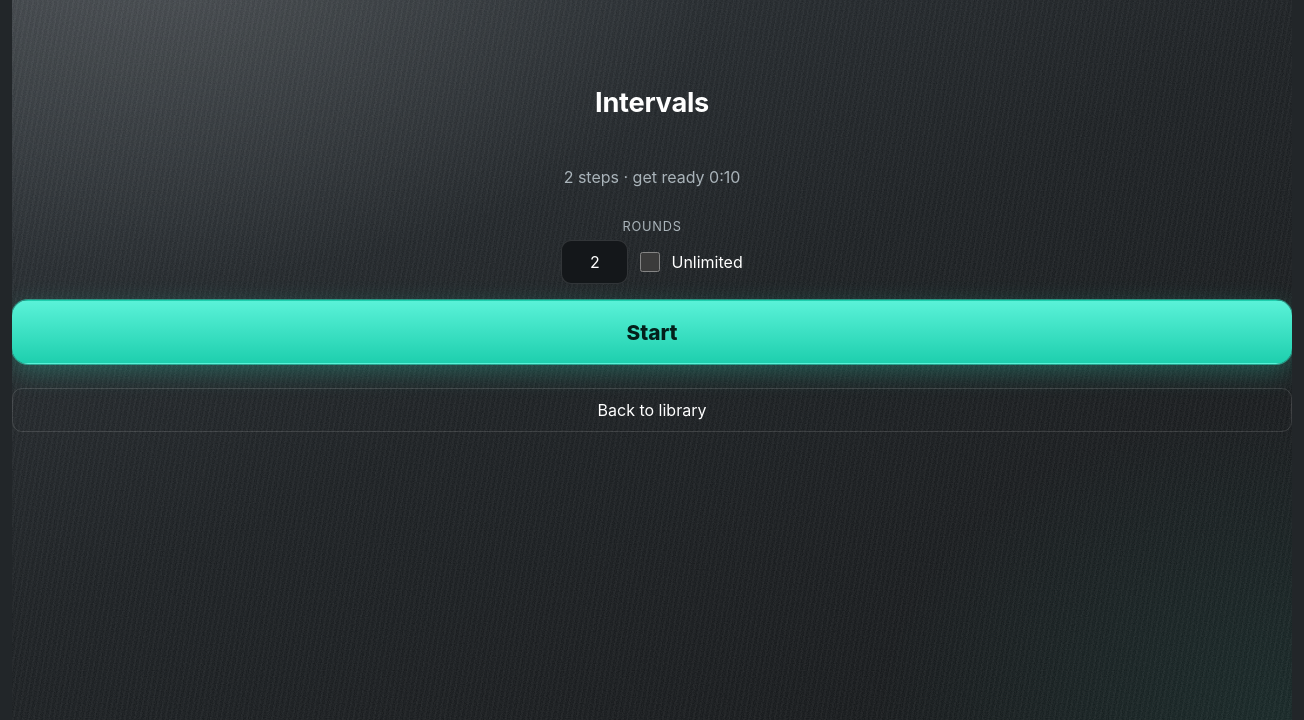
Runner basics › moves into work with the label, round counter and a next line
The width and height of the screenshot is (1304, 720).
Click the button "Start": (652, 332) [12,300,1292,364]
Wait 10000 ms
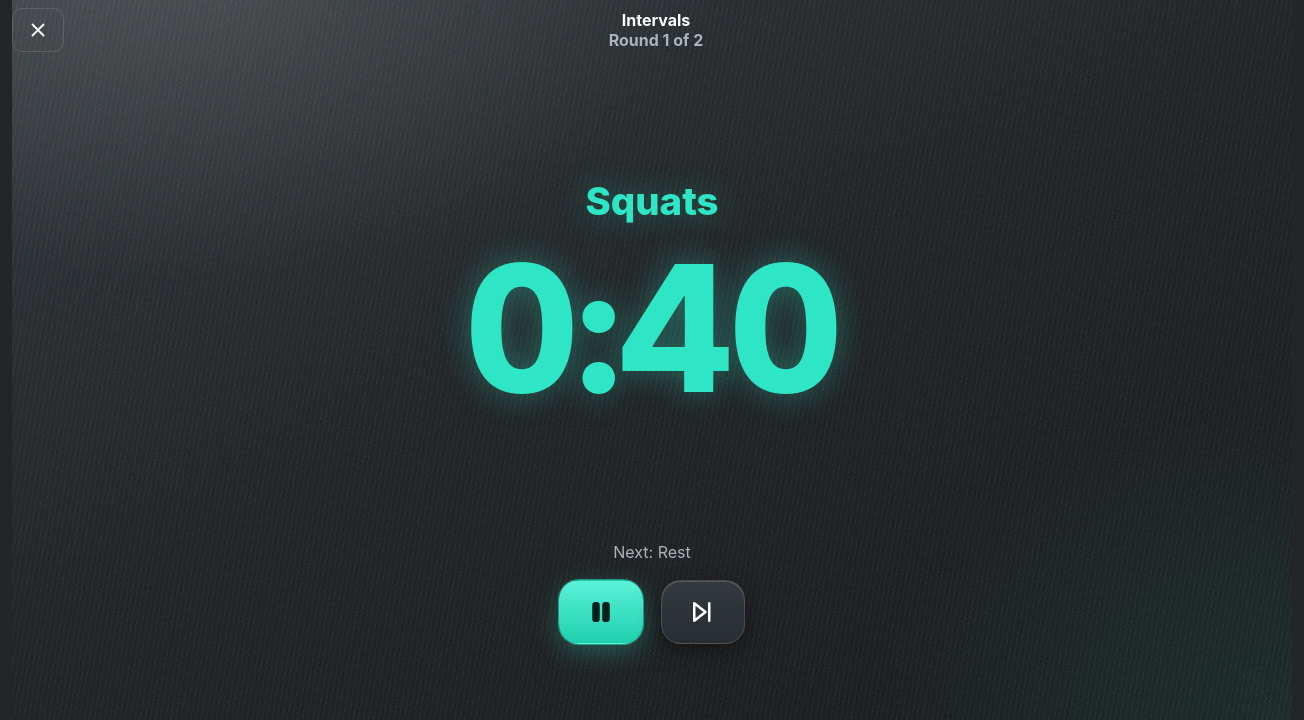
Now the text "Squats" is shown, box [585,178,719,224]
Now the text with test id "clock" reads "0:40", box [465,221,839,434]
Now the text "Round 1 of 2" is shown, box [609,30,703,50]
